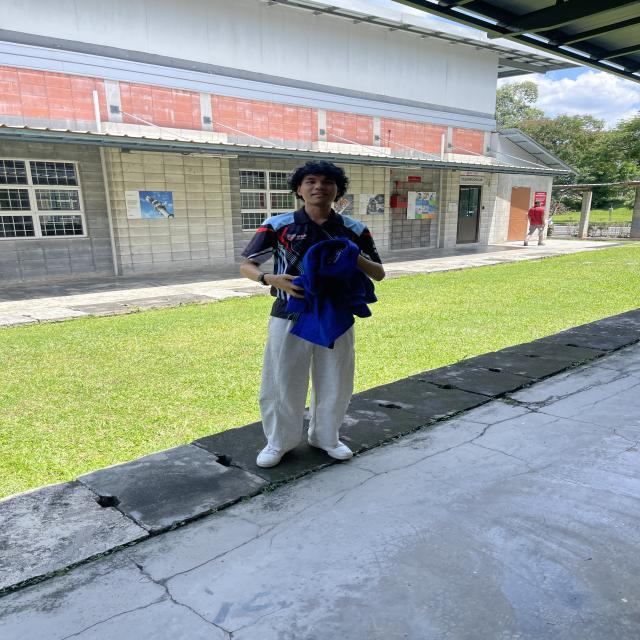person_without_labcoat: (240, 161, 385, 468)
